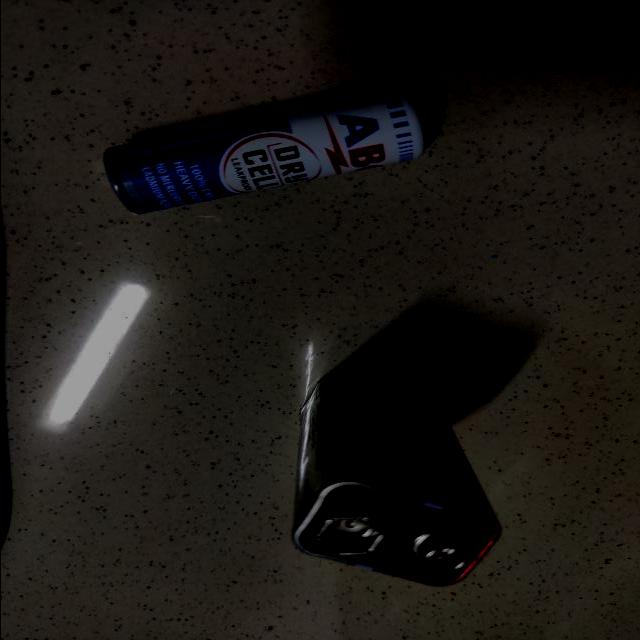9V: (248, 360, 519, 600)
AA: (73, 62, 455, 226)
